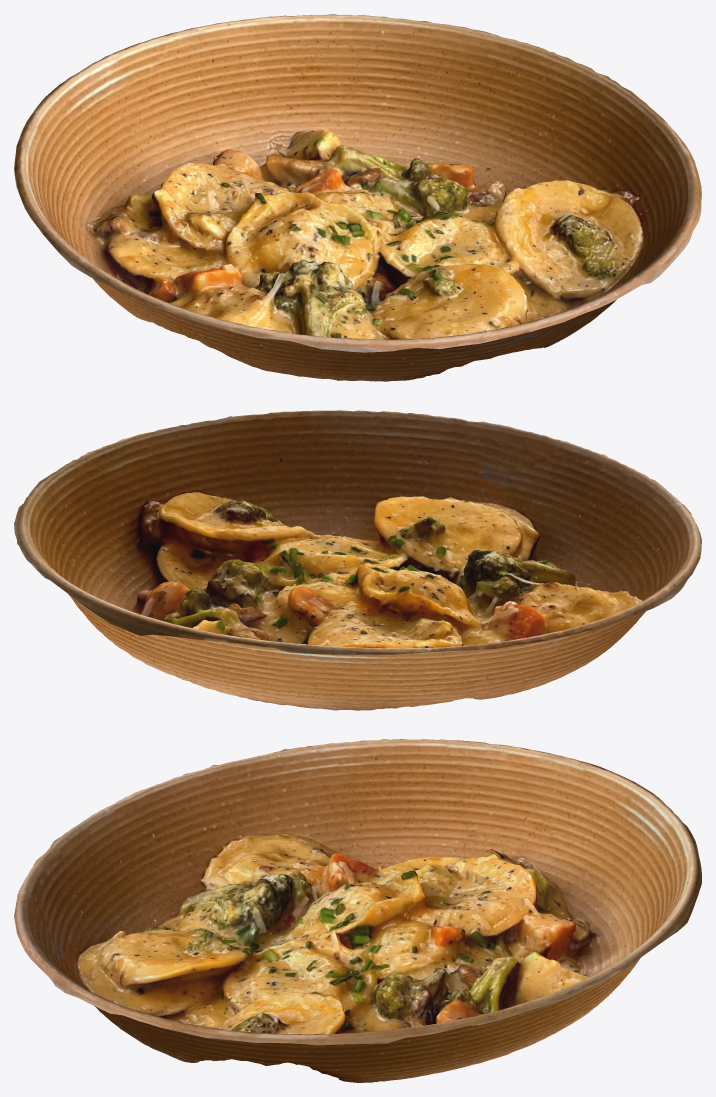
File: artichoke_ravioli.glb
3 views of the same model, one above another, from view 1: azimuth 30°, elevation 25°; view 2: azimuth 150°, elevation 25°; view 3: azimuth 270°, elevation 25° (orthographic).
Parts seen in each view (by area): view 1: Object_2; view 2: Object_2; view 3: Object_2.
Part boxes in pixels (left/top/right/bottom): Object_2: left=14, top=14, right=701, bottom=381; Object_2: left=14, top=410, right=701, bottom=710; Object_2: left=14, top=739, right=701, bottom=1082.
Bounding box in the file's own units: 147 × 31.97 × 146.
Materials: 1 (1 with a texture image).
